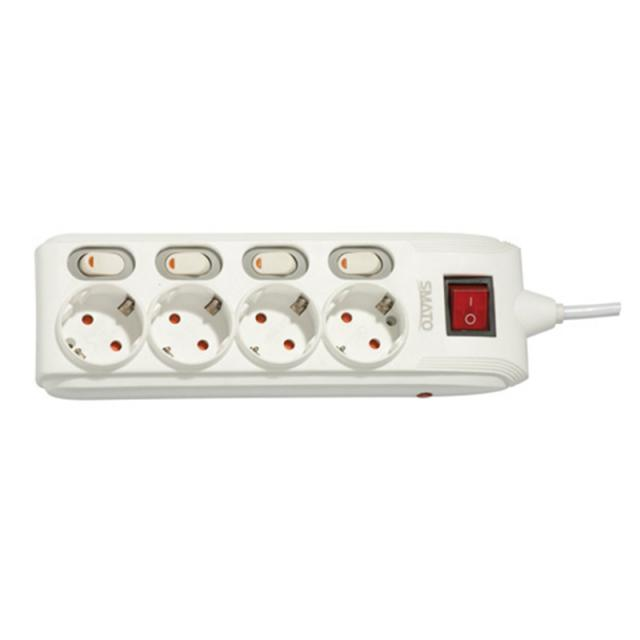typeb: (36, 220, 572, 447)
